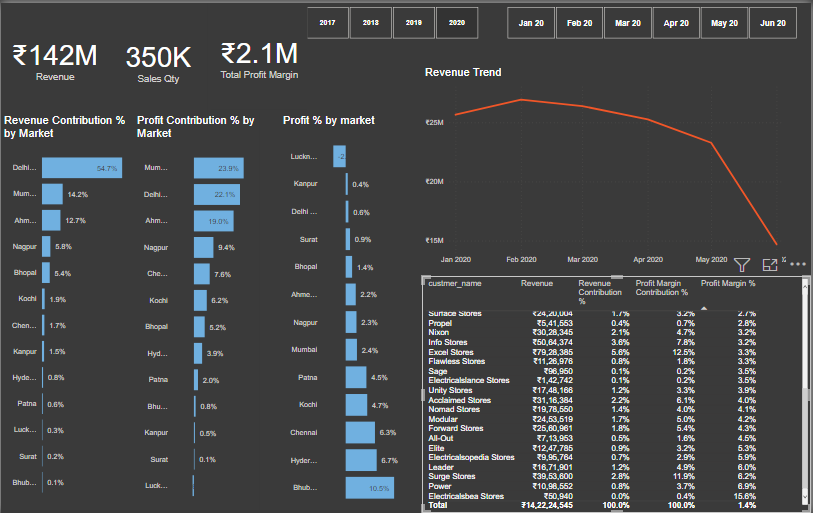

The page's visual inventory and layout, read from the dashboard file:
{"tool":"powerbi","page":{"name":"Profit Analysis","canvas":[1350,850],"ordinal":1},"visuals":[{"type":"card","fields":{"Values":["BaseMeasures (2).Revenue"]},"box":[0,0,179.6,184.8],"z":0},{"type":"card","fields":{"Values":["BaseMeasures (2).Sales Qty"]},"box":[179.6,0,164.1,193],"z":1000},{"type":"barChart","title":"Profit % by market","fields":{"Y":["BaseMeasures (2).Profit Margin %"],"Category":["sales markets.markets_name"]},"box":[464.5,184.8,230.2,664.8],"z":2000},{"type":"barChart","title":"Profit Contribution % by Market","fields":{"Y":["BaseMeasures (2).Profit Margin Contribution %"],"Category":["sales markets.markets_name"]},"box":[221.9,185.8,208.5,659.6],"z":3000},{"type":"slicer","fields":{"Values":["sales date.year"]},"box":[483.2,0,335.5,66.5],"z":4000},{"type":"slicer","fields":{"Values":["sales date.cy_date"]},"box":[818.6,0,531.7,66.5],"z":5000},{"type":"tableEx","title":"Top 5 Customers","fields":{"Values":["sales customers.custmer_name","BaseMeasures (2).Revenue","BaseMeasures (2).Revenue Contribution %","BaseMeasures (2).Profit Margin Contribution %","BaseMeasures (2).Profit Margin %"]},"box":[701.9,454.2,648.3,395.4],"z":6000},{"type":"lineChart","title":"Revenue Trend","fields":{"Y":["BaseMeasures (2).Revenue"],"Category":["sales date.cy_date"]},"box":[701.9,104.3,621.4,338.6],"z":7000},{"type":"card","fields":{"Values":["BaseMeasures (2).Total Profit Margin"]},"box":[349.9,0,161,176.5],"z":8000},{"type":"barChart","title":"Revenue Contribution % by Market","fields":{"Y":["BaseMeasures (2).Revenue Contribution %"],"Category":["sales markets.markets_name"]},"box":[0,185.8,219.9,654.5],"z":9000}]}

Visuals, with their boxes in screenshot pixels (x1, y1, x2, y2), scaled from the page's 1350x850 canvas onto the 813x513 screenshot:
card - BaseMeasures (2).Revenue: bbox=[0, 0, 108, 112]
card - BaseMeasures (2).Sales Qty: bbox=[108, 0, 207, 116]
"Profit % by market" barChart: bbox=[280, 112, 418, 512]
"Profit Contribution % by Market" barChart: bbox=[134, 112, 259, 510]
slicer - sales date.year: bbox=[291, 0, 493, 40]
slicer - sales date.cy_date: bbox=[493, 0, 812, 40]
"Top 5 Customers" tableEx: bbox=[423, 274, 812, 512]
"Revenue Trend" lineChart: bbox=[423, 63, 797, 267]
card - BaseMeasures (2).Total Profit Margin: bbox=[211, 0, 308, 107]
"Revenue Contribution % by Market" barChart: bbox=[0, 112, 132, 507]
